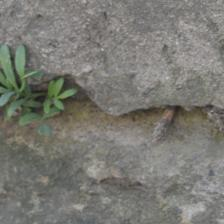Crack: (63, 73, 222, 137)
